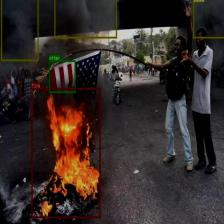fire: (31, 88, 101, 218)
smoke: (54, 0, 117, 38), (0, 0, 38, 61), (192, 0, 224, 38)
